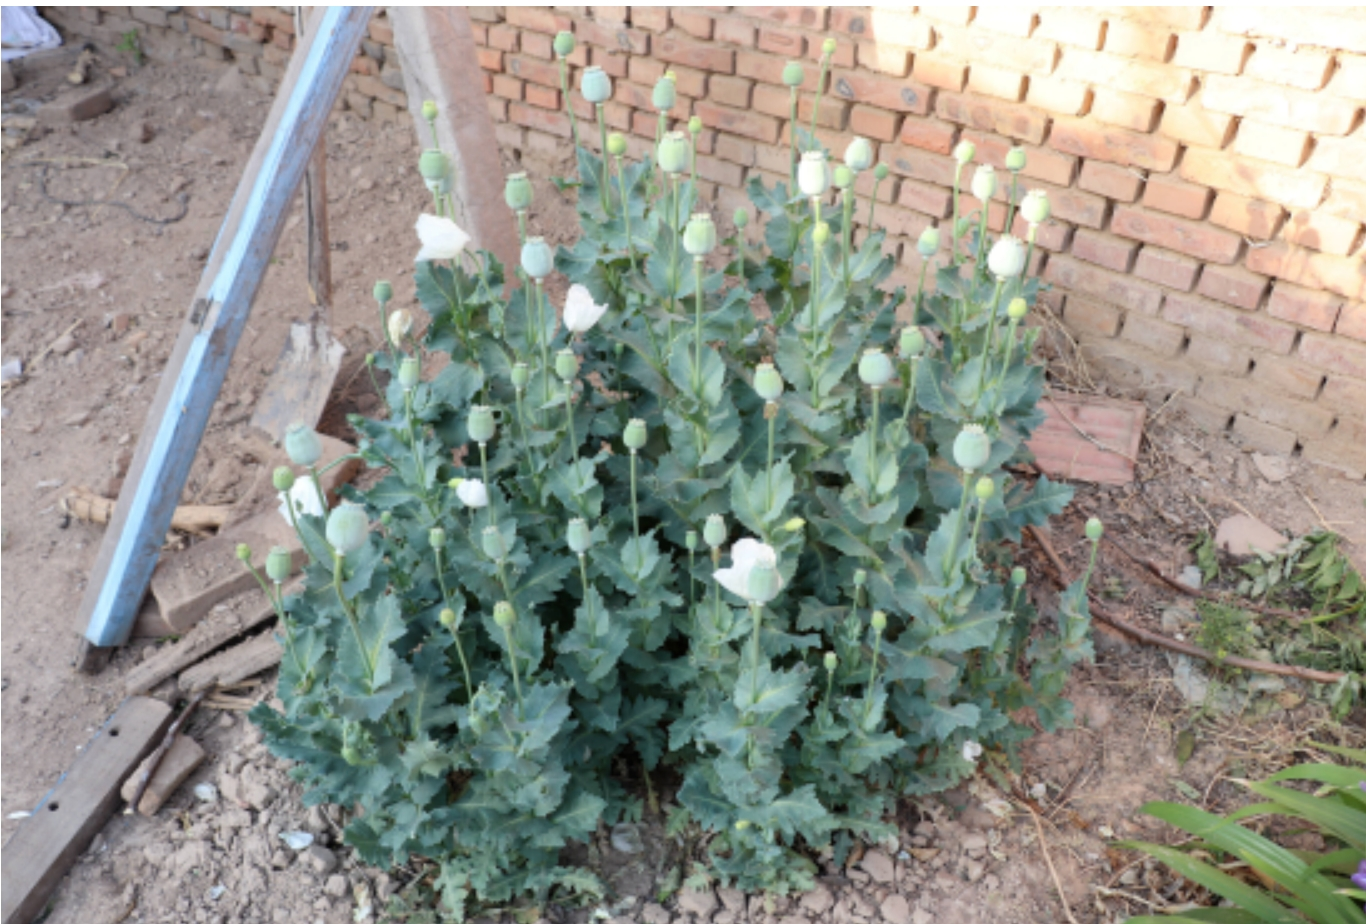Poppy: (219, 15, 1126, 846)
